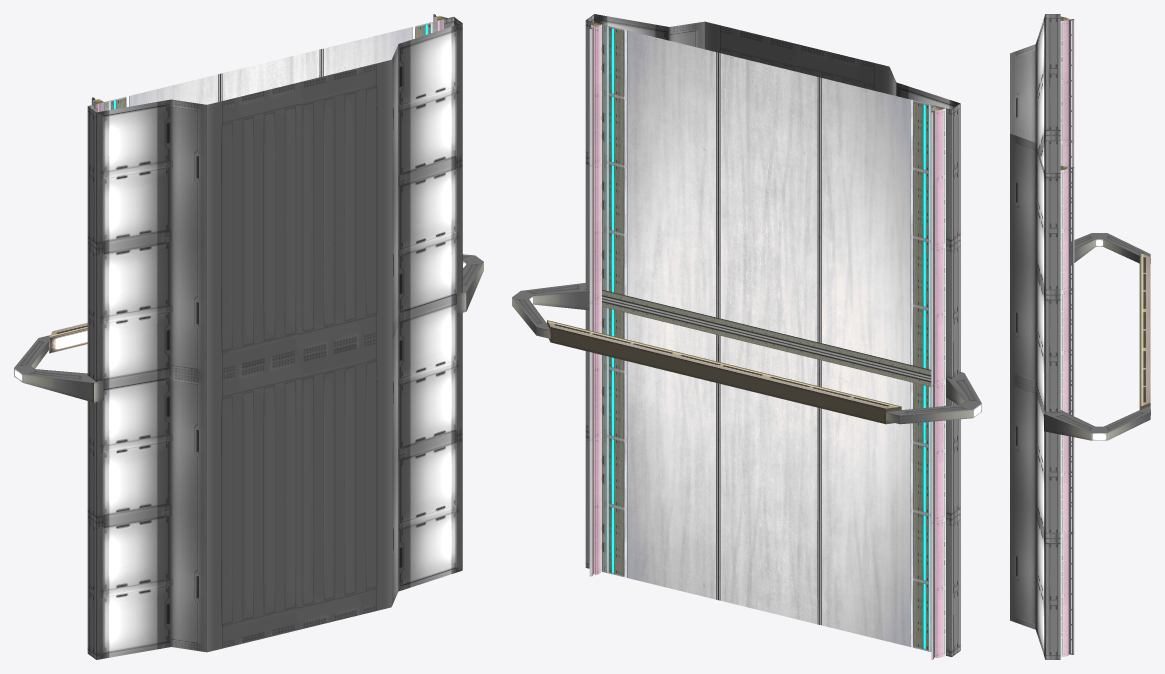
The model's file is T27 - Magnetic.fbx.
3 views of the same model, side by side, from view 1: azimuth 30°, elevation 25°; view 2: azimuth 150°, elevation 25°; view 3: azimuth 270°, elevation 25° (orthographic). The views are drawn at different scales.
Visible parts, largest first — view 1: standard_bridge5, straight_road7, cage; view 2: straight_road7, standard_bridge5, wall, cage, magnetic_road_lines, expansion_joint2; view 3: standard_bridge5, wall, cage.
Boxes of the visible parts, x1,y1,x2,y2 form: standard_bridge5: (87,17,462,659); straight_road7: (104,21,437,110); cage: (14,254,483,402); straight_road7: (602,24,934,651); standard_bridge5: (585,14,960,656); wall: (589,21,945,659); cage: (512,283,981,424); magnetic_road_lines: (627,52,909,625); expansion_joint2: (602,289,931,386); standard_bridge5: (1010,14,1060,659); wall: (1060,16,1074,657); cage: (1044,233,1150,440).
Size of the model in its own units: 5641 by 6400 by 1678.
